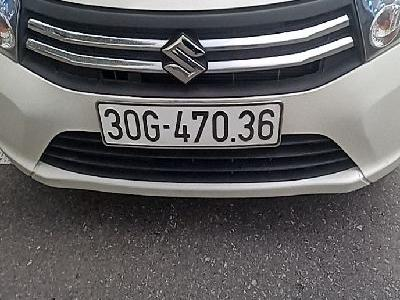number: (96, 99, 280, 147)
